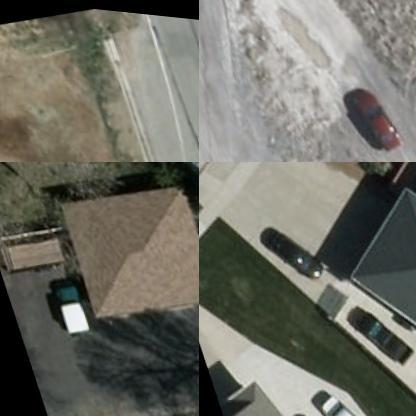car: (336, 69, 405, 150), (258, 217, 328, 286), (46, 278, 90, 337), (311, 381, 379, 415)
pickup: (350, 299, 414, 369)
